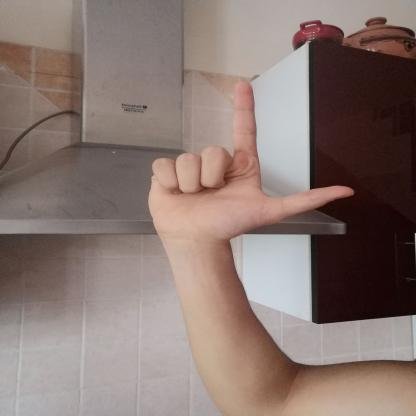LAAM: (136, 73, 364, 250)
